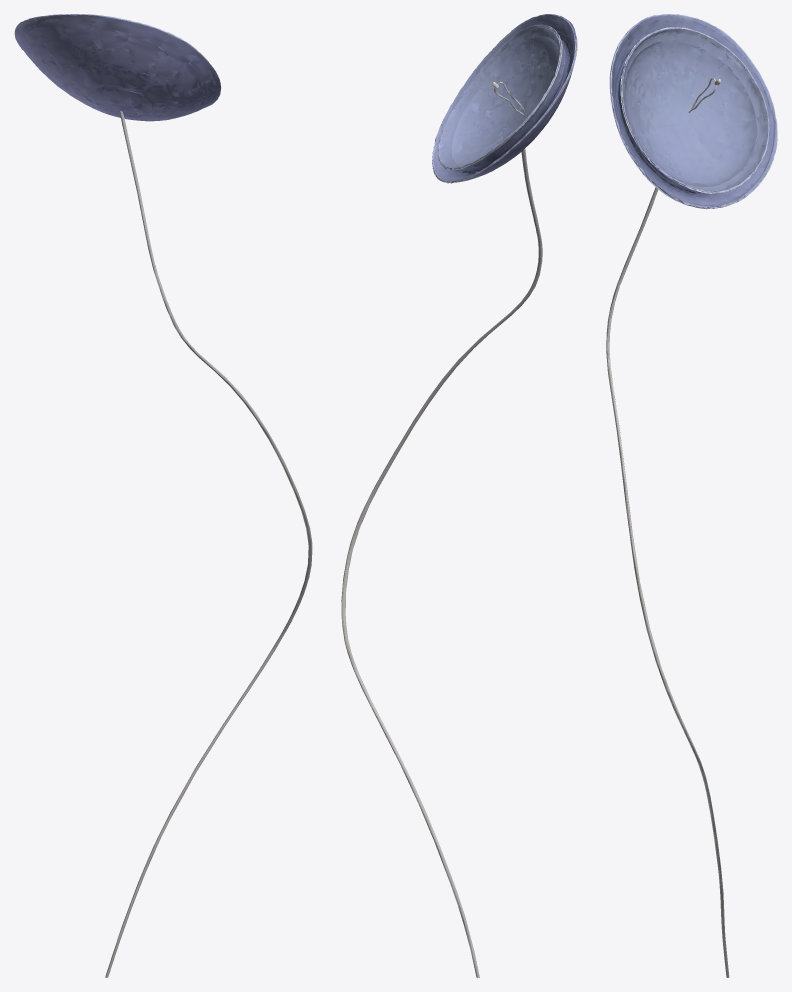
The model's file is 11_4_hamu_cnk_alab-opt-v59.glb.
The picture shows the model from 3 angles, left to right: view 1: azimuth 30°, elevation 25°; view 2: azimuth 150°, elevation 25°; view 3: azimuth 270°, elevation 25°; orthographic projection. The views are drawn at different scales.
Parts seen in each view (by area): view 1: tripo_node_22387682-e46e-41e9-b20e-e7e9c88a6d92.002; view 2: tripo_node_22387682-e46e-41e9-b20e-e7e9c88a6d92.002; view 3: tripo_node_22387682-e46e-41e9-b20e-e7e9c88a6d92.002.
Part boxes in pixels (<box>): tripo_node_22387682-e46e-41e9-b20e-e7e9c88a6d92.002: <box>14,14,312,977</box>; tripo_node_22387682-e46e-41e9-b20e-e7e9c88a6d92.002: <box>341,14,577,977</box>; tripo_node_22387682-e46e-41e9-b20e-e7e9c88a6d92.002: <box>606,14,777,977</box>.
Bounding box in the file's own units: 0.14 × 0.5145 × 0.0856.
Materials: 1 (1 with a texture image).
